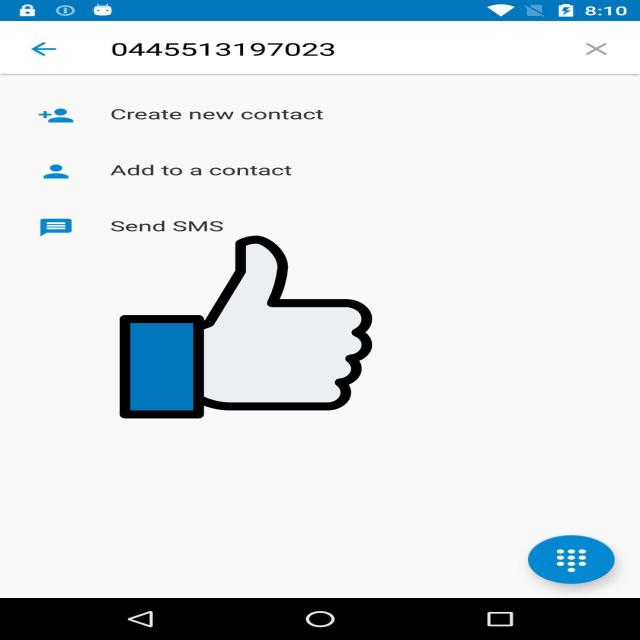privacy zuckering: (120, 232, 372, 422)
